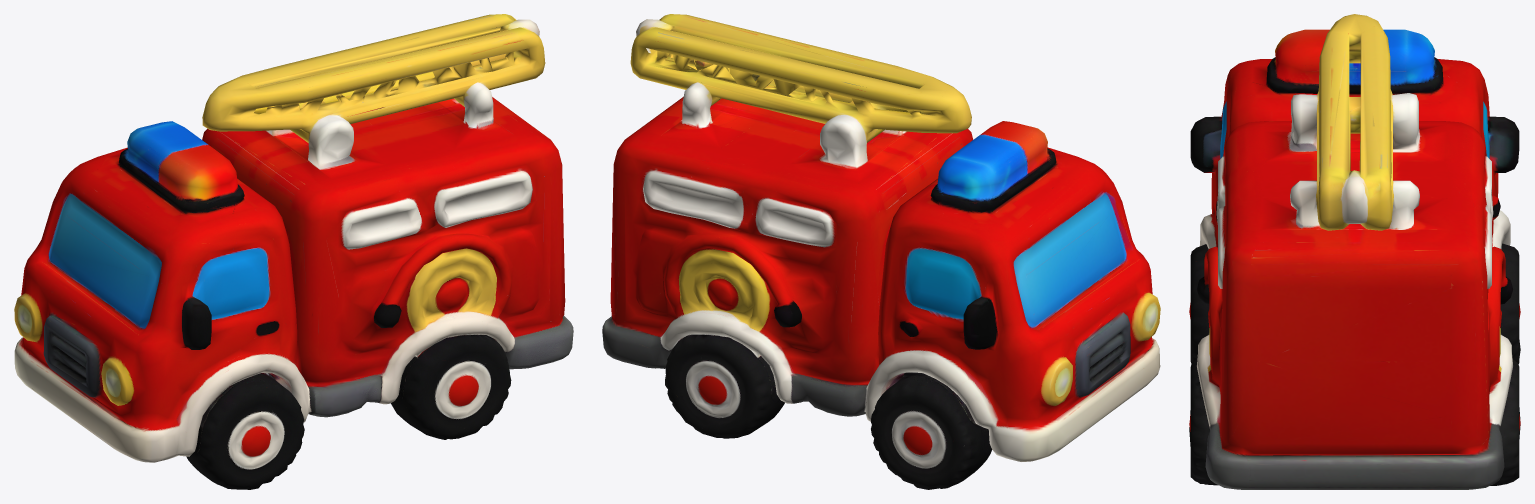
Rendered from camion_bomberos.glb.
3 views of the same model, side by side, from view 1: azimuth 30°, elevation 25°; view 2: azimuth 150°, elevation 25°; view 3: azimuth 270°, elevation 25° (orthographic). The views are drawn at different scales.
Bounding box in the file's own units: 1.91 × 1.3 × 1.05.
Materials: 1 (1 with a texture image).
